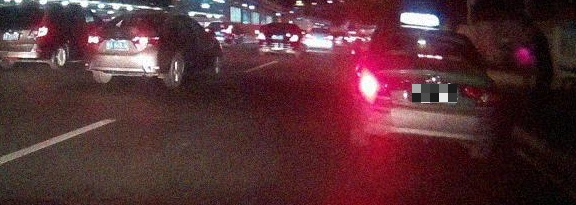L_light: (352, 77, 386, 96), (85, 35, 104, 45)
R_light: (463, 84, 500, 105), (137, 35, 164, 47)
T_light: (415, 51, 443, 59), (117, 22, 132, 28)
night-left: (350, 25, 502, 160)
night-no: (84, 9, 171, 89)
plate_1: (412, 84, 457, 103)
